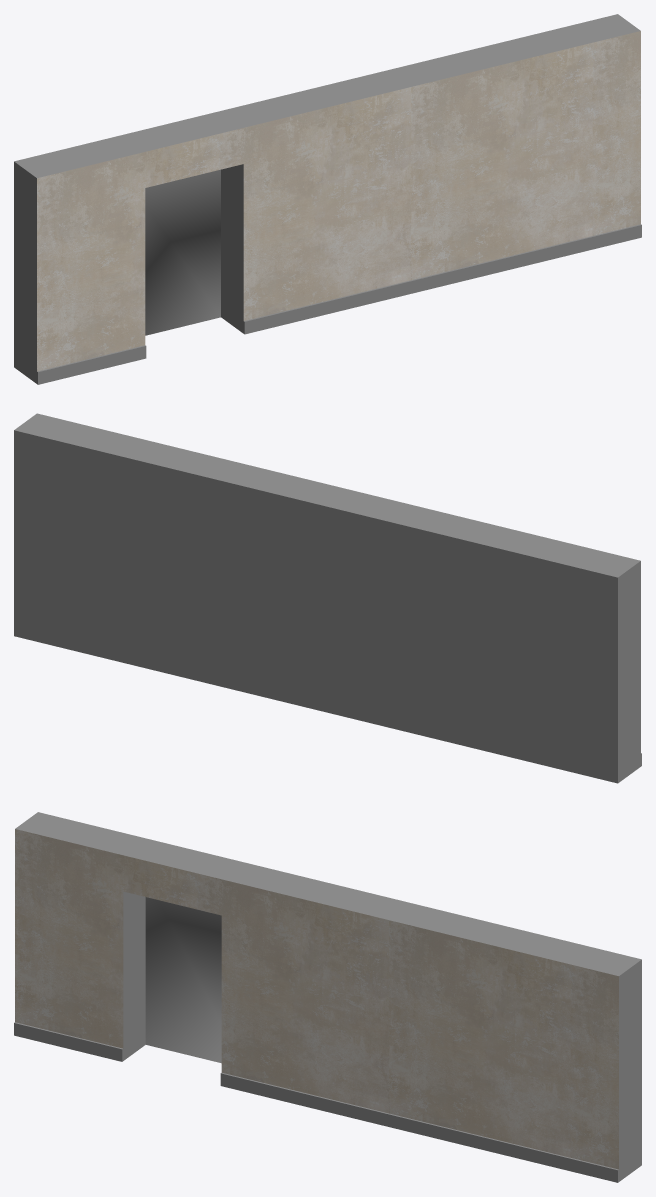
The model's file is Wall 4.FBX.
3 renders of one model, top to bottom at view 1: azimuth 30°, elevation 25°; view 2: azimuth 150°, elevation 25°; view 3: azimuth 330°, elevation 25°, orthographic.
Parts seen in each view (by area): view 1: Wall 4; view 2: Wall 4; view 3: Wall 4.
Boxes of the visible parts, x1=… form: Wall 4: x1=14, y1=14, x2=641, y2=384; Wall 4: x1=14, y1=413, x2=641, y2=783; Wall 4: x1=14, y1=812, x2=641, y2=1182.
Size of the model in its own units: 800 by 261 by 55.2.
Materials: 2 (1 with a texture image).
